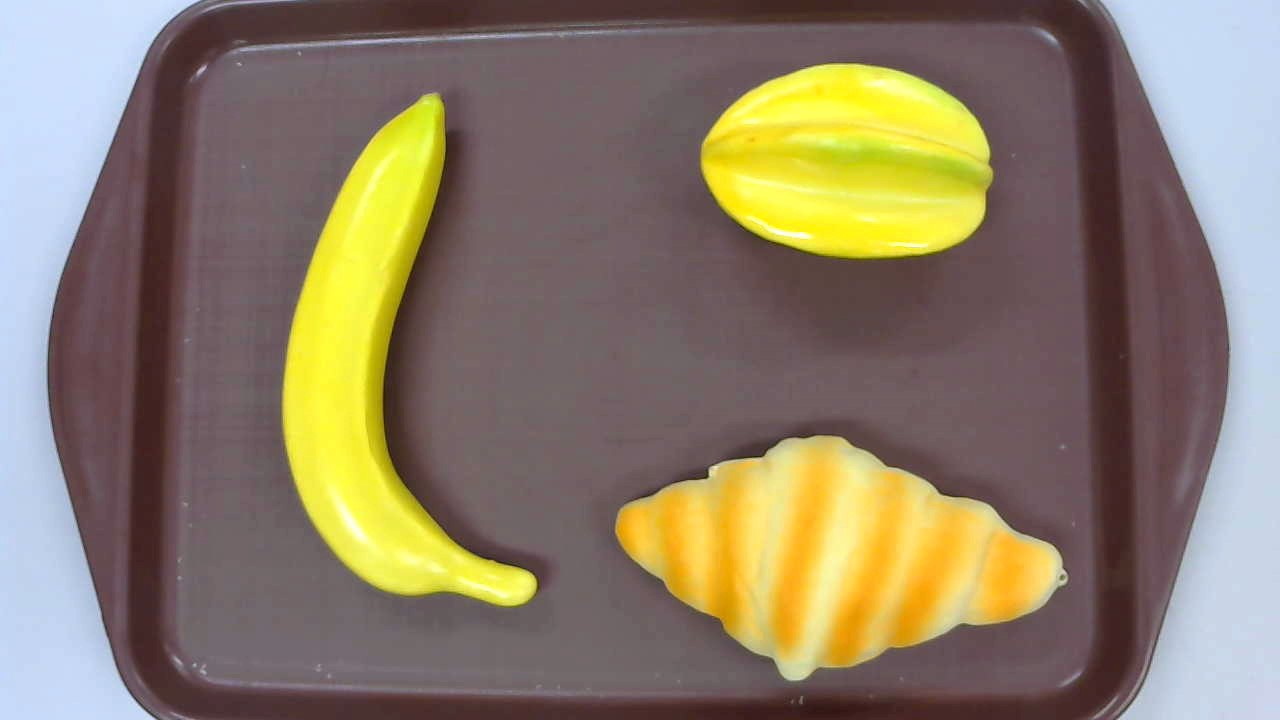banana: (280, 92, 539, 607)
croissant: (614, 433, 1068, 681)
star fruit: (699, 62, 992, 261)
